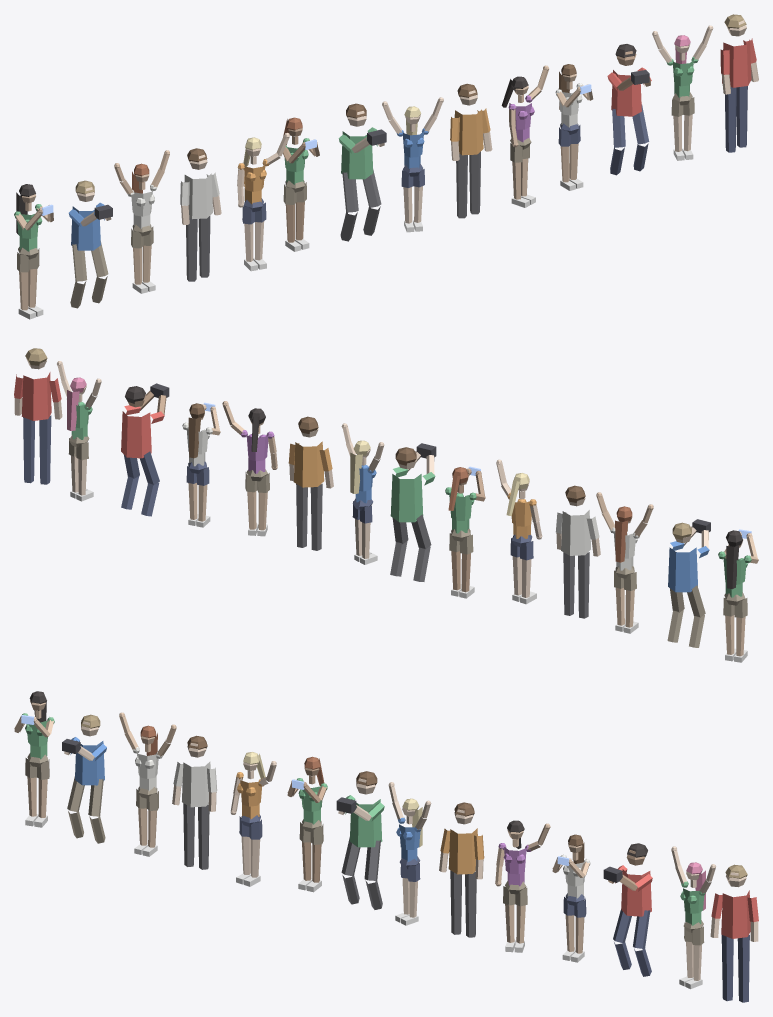
File: crowd_night_row.glb
3 renders of one model, top to bottom at view 1: azimuth 30°, elevation 25°; view 2: azimuth 150°, elevation 25°; view 3: azimuth 330°, elevation 25°, orthographic.
Visible parts, largest first — view 1: crowd_night_row; view 2: crowd_night_row; view 3: crowd_night_row.
Part boxes in pixels (x1,y1,x2,y2): crowd_night_row: (14, 14, 758, 319); crowd_night_row: (14, 348, 758, 662); crowd_night_row: (14, 691, 758, 1002).
Bounding box in the file's own units: 10.43 × 1.81 × 0.9321.
